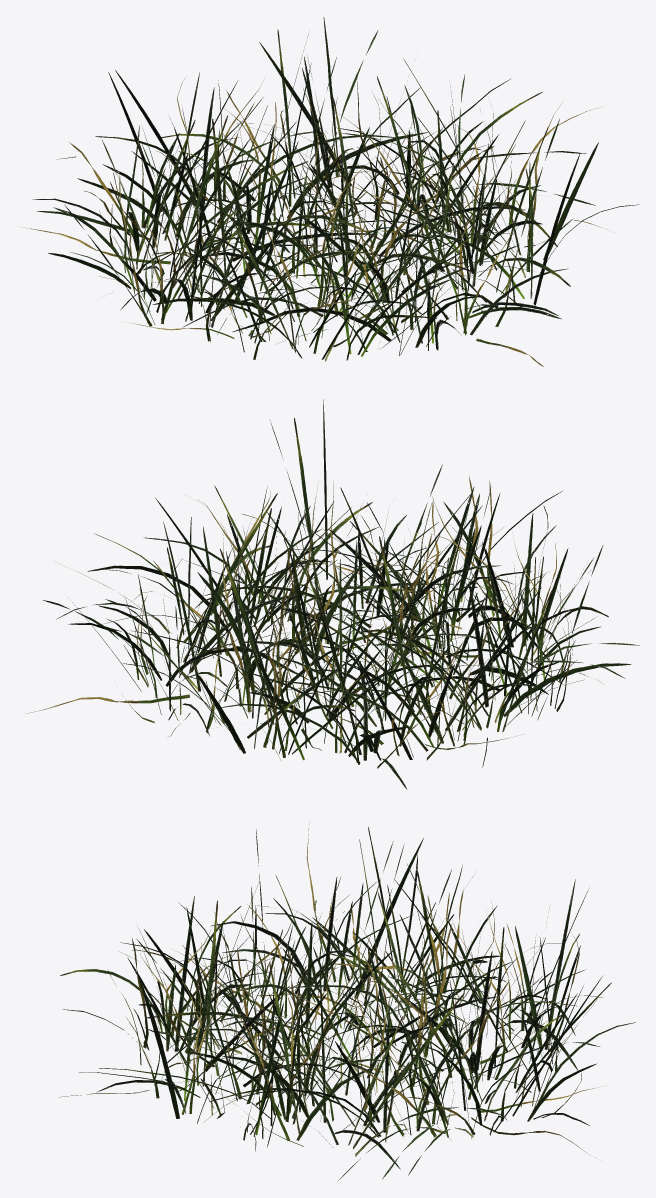
File: GrassPatchHighDetail.fbx
3 views of the same model, one above another, from view 1: azimuth 30°, elevation 25°; view 2: azimuth 150°, elevation 25°; view 3: azimuth 270°, elevation 25° (orthographic). The views are drawn at different scales.
Parts seen in each view (by area): view 1: _haj9_VarB_LOD1; view 2: _haj9_VarB_LOD1; view 3: _haj9_VarB_LOD1.
Part boxes in pixels (bbox=[...]): _haj9_VarB_LOD1: bbox=[17, 17, 639, 366]; _haj9_VarB_LOD1: bbox=[25, 399, 639, 789]; _haj9_VarB_LOD1: bbox=[59, 822, 635, 1181].
Bounding box in the file's own units: 54.6 × 17.08 × 54.13.
